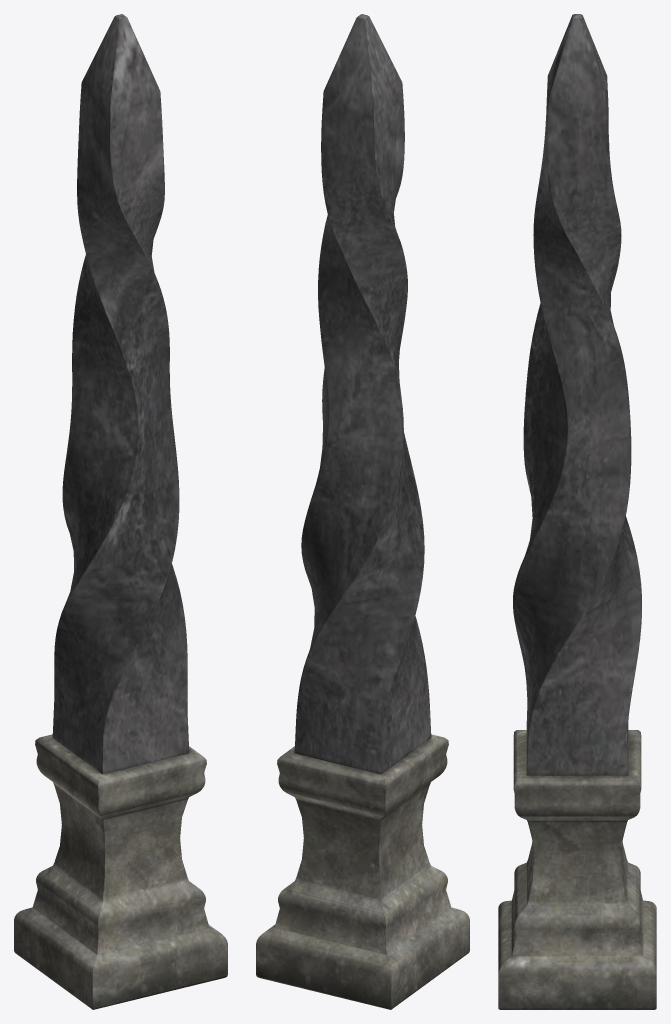
The model's file is obelisk.glb.
The picture shows the model from 3 angles, left to right: view 1: azimuth 30°, elevation 25°; view 2: azimuth 150°, elevation 25°; view 3: azimuth 270°, elevation 25°; orthographic projection.
Parts seen in each view (by area): view 1: DerObel_0, PlinthedesObels_1; view 2: DerObel_0, PlinthedesObels_1; view 3: DerObel_0, PlinthedesObels_1.
Part boxes in pixels (<box>): DerObel_0: <box>52,14,189,774</box>; PlinthedesObels_1: <box>14,734,227,1009</box>; DerObel_0: <box>294,14,431,774</box>; PlinthedesObels_1: <box>256,734,469,1009</box>; DerObel_0: <box>513,14,641,775</box>; PlinthedesObels_1: <box>498,730,656,1009</box>.
Size of the model in its own units: 1.38 by 9.23 by 1.38.
2 materials, 2 textured.
